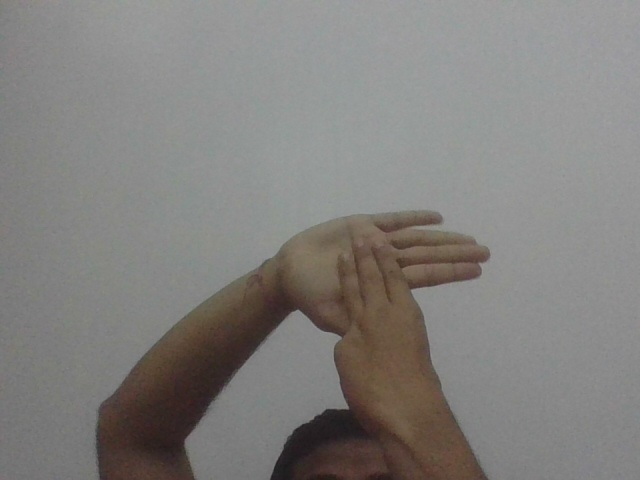M: (285, 204, 500, 365)
